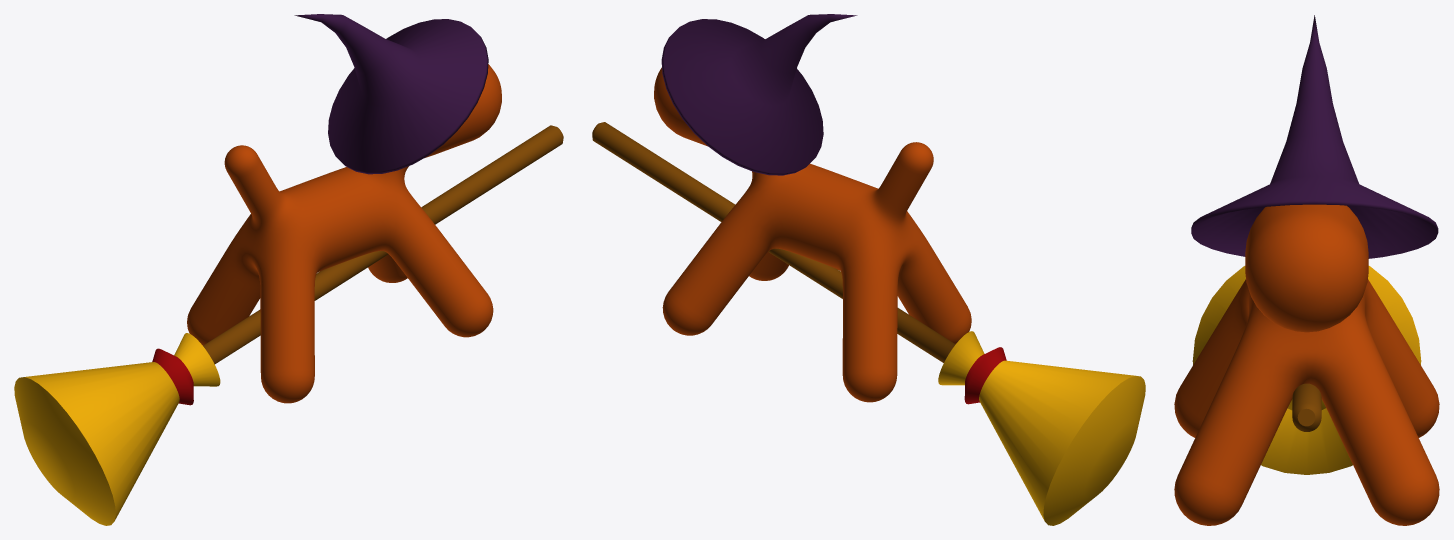
File: extenditeHallo.glb
3 renders of one model, left to right at view 1: azimuth 30°, elevation 25°; view 2: azimuth 150°, elevation 25°; view 3: azimuth 270°, elevation 25°, orthographic. The views are drawn at different scales.
Parts seen in each view (by area): view 1: mpm_f15__Magis_Puppy; view 2: mpm_f15__Magis_Puppy; view 3: mpm_f15__Magis_Puppy.
Boxes of the visible parts, x1,y1,x2,y2 form: mpm_f15__Magis_Puppy: (14,14,563,525); mpm_f15__Magis_Puppy: (592,14,1145,525); mpm_f15__Magis_Puppy: (1174,15,1439,525).
Bounding box in the file's own units: 3.79 × 3.1 × 1.26.
